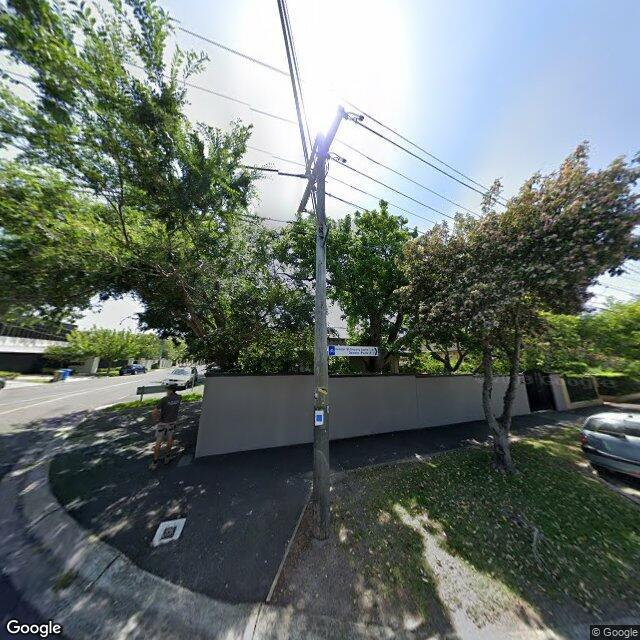crossarm: (297, 106, 345, 212)
timber-pole: (313, 133, 329, 541)
